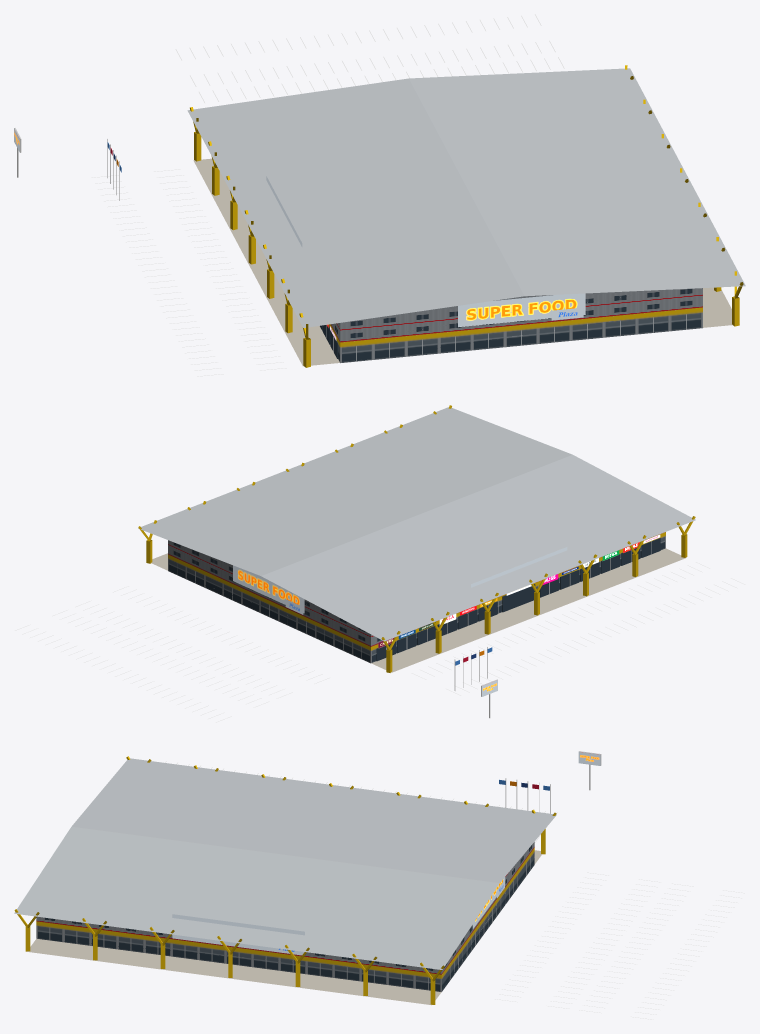
Rendered from superfood.glb.
The picture shows the model from 3 angles, top to bottom: view 1: azimuth 30°, elevation 25°; view 2: azimuth 150°, elevation 25°; view 3: azimuth 270°, elevation 25°; orthographic projection. The views are drawn at different scales.
Parts seen in each view (by area): view 1: superfood_lod0; view 2: superfood_lod0; view 3: superfood_lod0.
Part boxes in pixels (x1=…): superfood_lod0: x1=14, y1=14, x2=745, y2=376; superfood_lod0: x1=15, y1=405, x2=745, y2=722; superfood_lod0: x1=14, y1=751, x2=744, y2=1019.
Size of what is drawn, in the model's own units: 132 by 11.19 by 158.
Materials: 16 (3 with a texture image).
